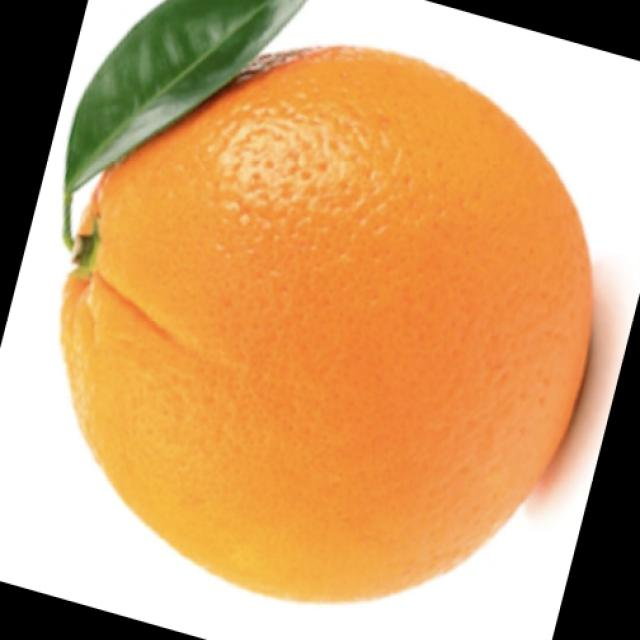fresh: (34, 21, 610, 609)
